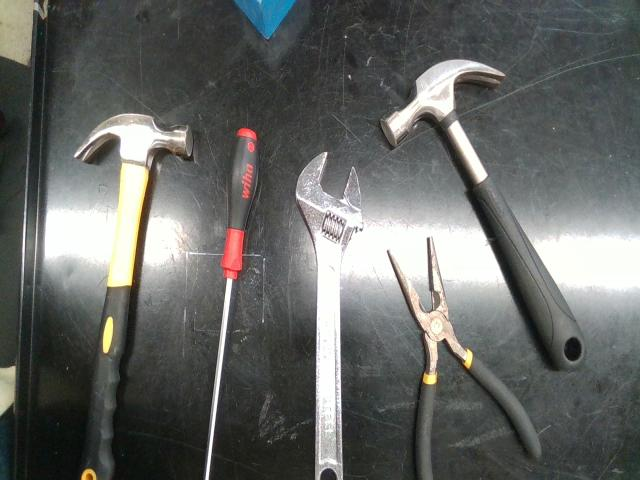Adjustable spanner: (296, 152, 362, 480)
Hammer: (381, 60, 585, 371), (75, 113, 192, 480)
Needle-nose pliers: (388, 237, 541, 480)
Screwdriver: (204, 128, 259, 479)
